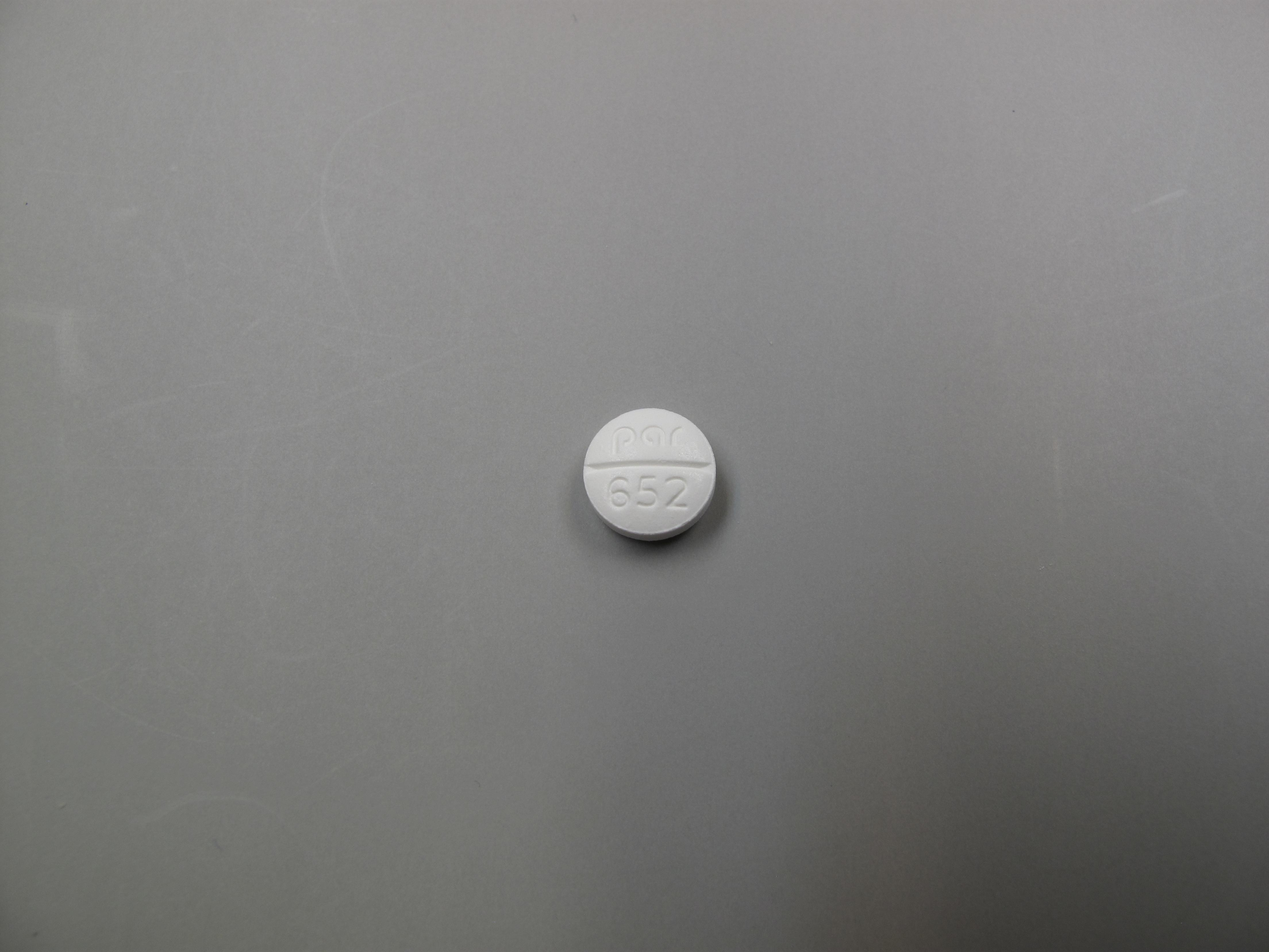Pill: (576, 400, 721, 546)
